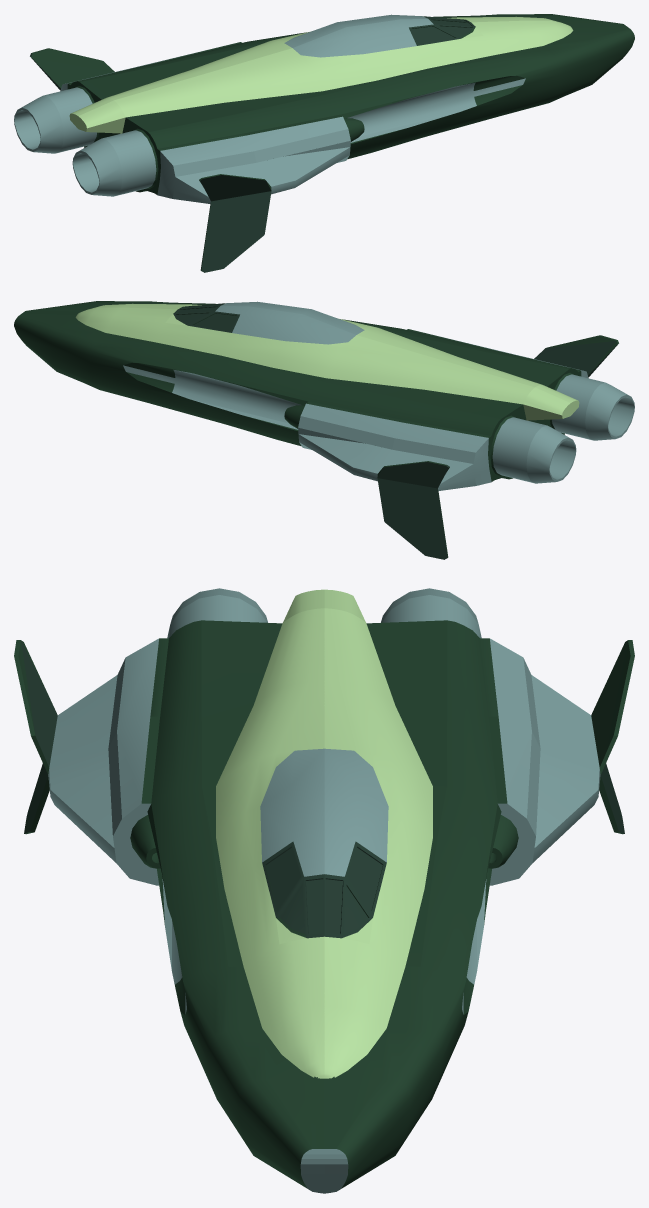
Rendered from spaceship_2.fbx.
3 views of the same model, one above another, from view 1: azimuth 30°, elevation 25°; view 2: azimuth 150°, elevation 25°; view 3: azimuth 270°, elevation 25° (orthographic). The views are drawn at different scales.
Parts seen in each view (by area): view 1: interseptor1; view 2: interseptor1; view 3: interseptor1.
Part boxes in pixels (x1,y1,x2,y2): interseptor1: (14, 14, 634, 272); interseptor1: (14, 301, 634, 559); interseptor1: (14, 588, 634, 1193).
Bounding box in the file's own units: 1709 × 371 × 897.
